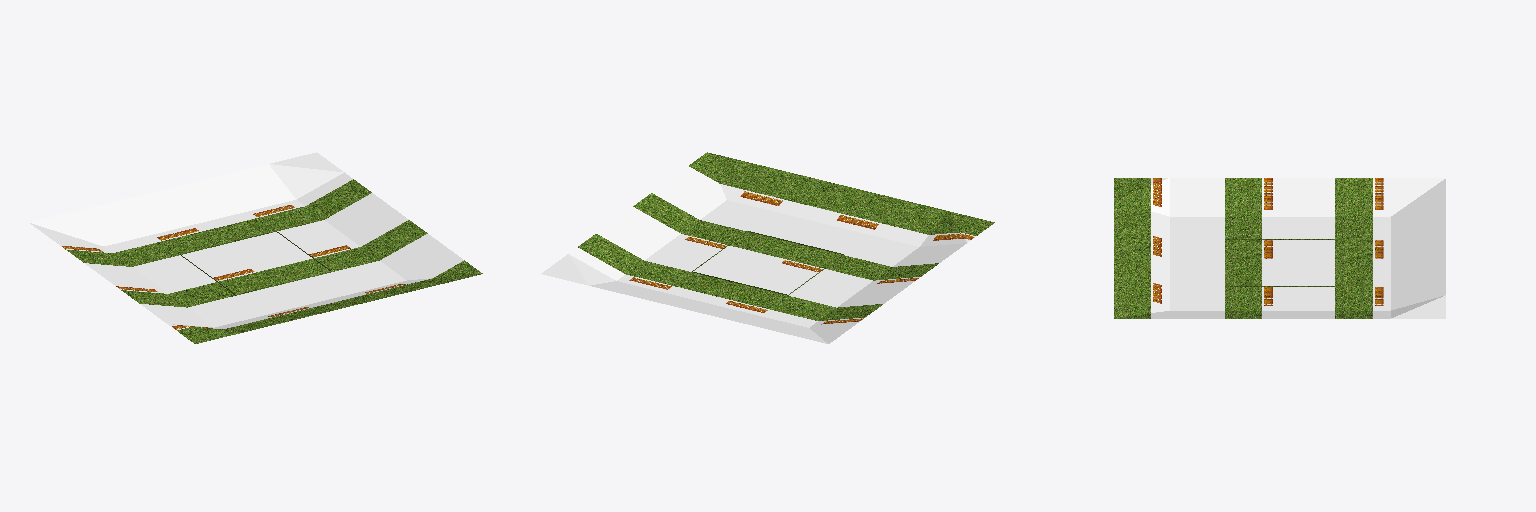
3 views of the same model, side by side, from view 1: azimuth 30°, elevation 25°; view 2: azimuth 150°, elevation 25°; view 3: azimuth 270°, elevation 25° (orthographic).
Size of the model in its own units: 6000 by 307 by 6000.
1 materials, 1 textured.